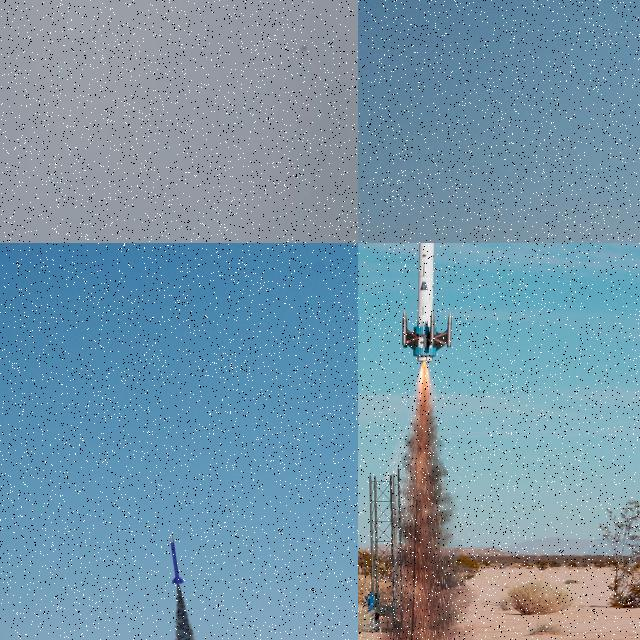Rocket: (402, 243, 452, 364), (170, 534, 185, 584), (300, 45, 308, 52)
